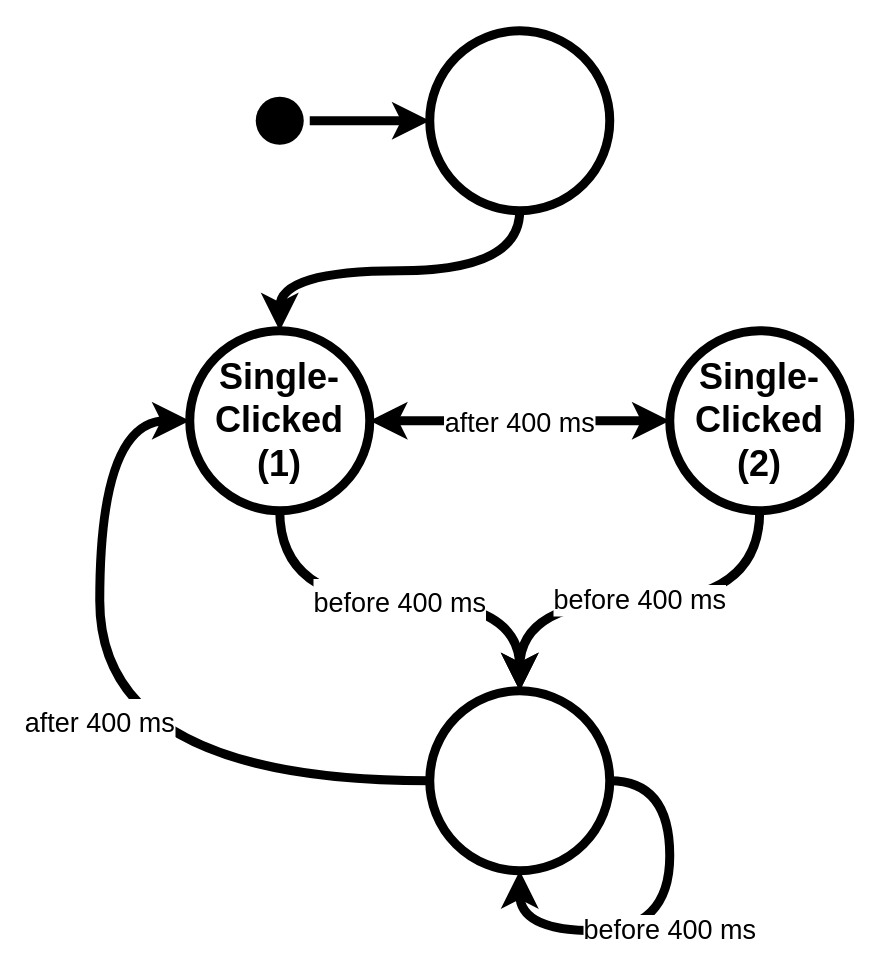
This 879x972 diagram has some shape labels left out. Here are the shapes that lost their labels. From the top down, the centre of each, then its label:
At (x=519, y=120): "Click Fast".
At (x=519, y=780): "Double-Clicked".
